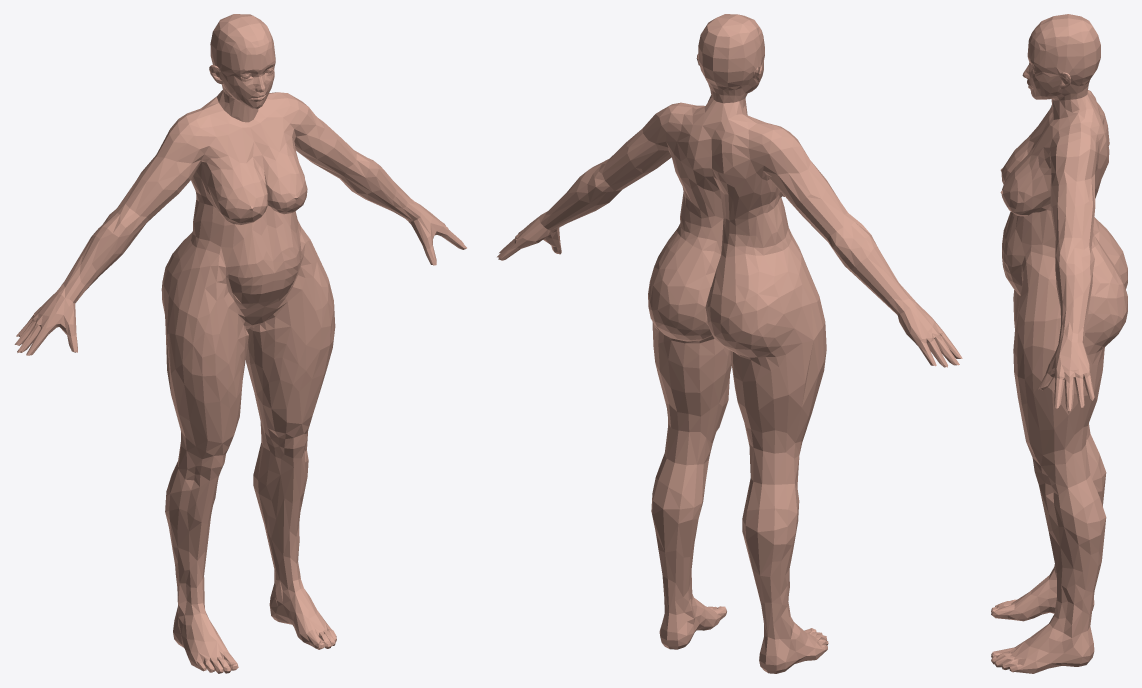
File: tpose.obj
3 views of the same model, side by side, from view 1: azimuth 30°, elevation 25°; view 2: azimuth 150°, elevation 25°; view 3: azimuth 270°, elevation 25° (orthographic). The views are drawn at different scales.
Visible parts, largest first — view 1: 24_face_0.9_1_1; view 2: 24_face_0.9_1_1; view 3: 24_face_0.9_1_1.
Part boxes in pixels (x1,y1,x2,y2): 24_face_0.9_1_1: (14, 14, 466, 673); 24_face_0.9_1_1: (497, 14, 962, 673); 24_face_0.9_1_1: (991, 14, 1127, 673).
Size of the model in its own units: 1.23 by 1.63 by 0.3231.
